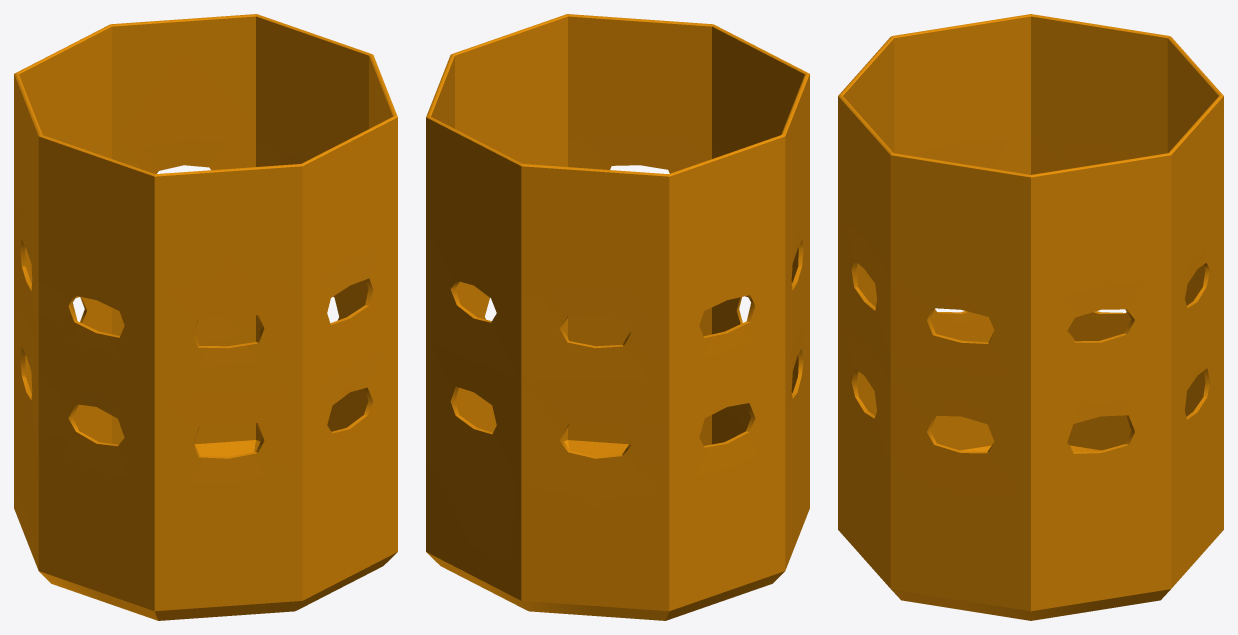
Rendered from Pencil_Pot_UV.fbx.
3 views of the same model, side by side, from view 1: azimuth 30°, elevation 25°; view 2: azimuth 150°, elevation 25°; view 3: azimuth 270°, elevation 25° (orthographic).
Parts seen in each view (by area): view 1: PotCrayon; view 2: PotCrayon; view 3: PotCrayon.
Part boxes in pixels (<box>): PotCrayon: <box>14,14,397,620</box>; PotCrayon: <box>426,14,809,620</box>; PotCrayon: <box>838,14,1223,620</box>.
Size of the model in its own units: 7 by 9.03 by 7.
